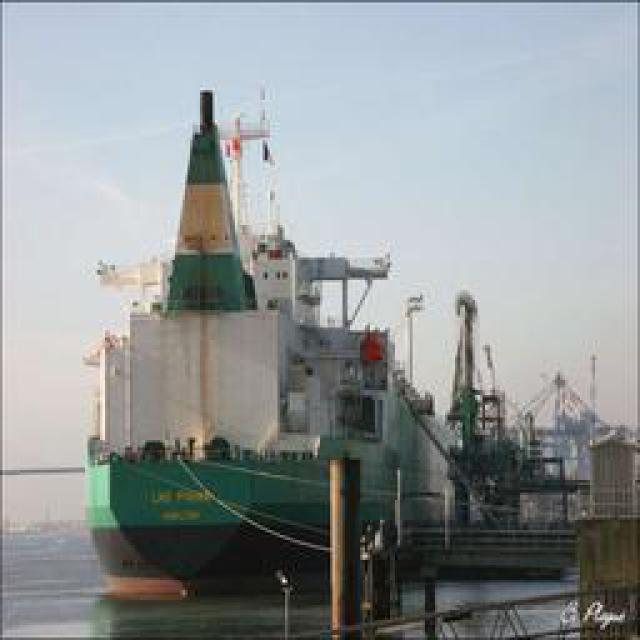Ship: (85, 76, 550, 609)
